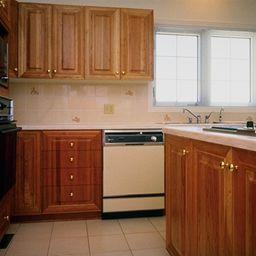Electrodomestico: (104, 132, 165, 215)
